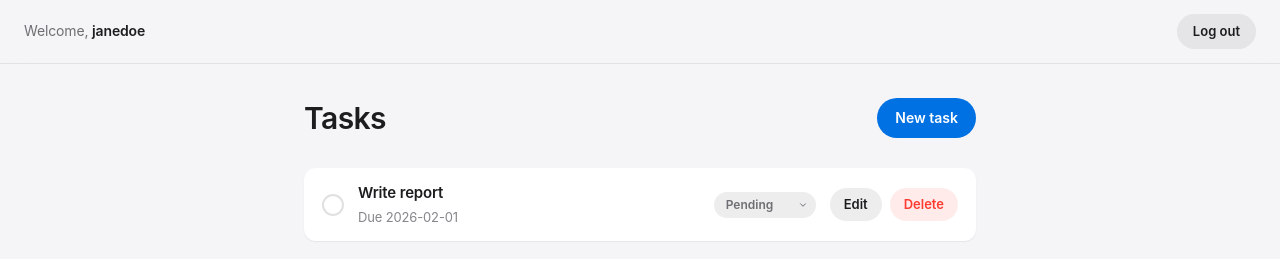
Test case: TasksPage › deletes a task and removes it from the list
The image size is (1280, 259).
Click the button "Delete" at point(924, 205), box x1=890 y1=188 x2=958 y2=221
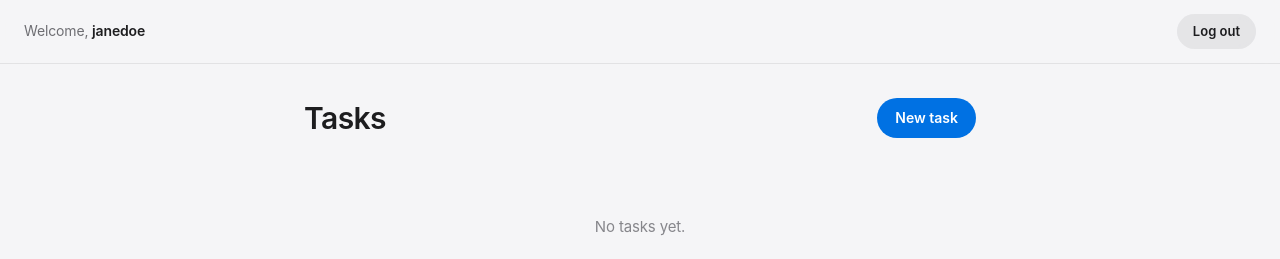
Check: the text "Write report" is gone
